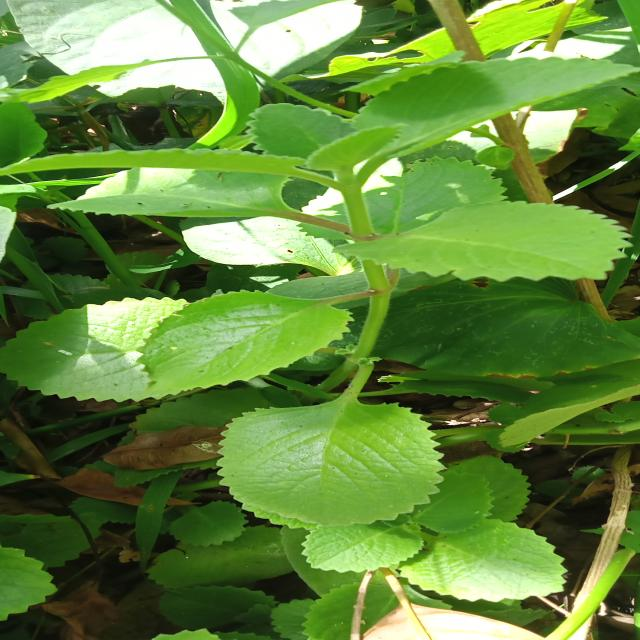Oregano: (152, 61, 588, 534)
